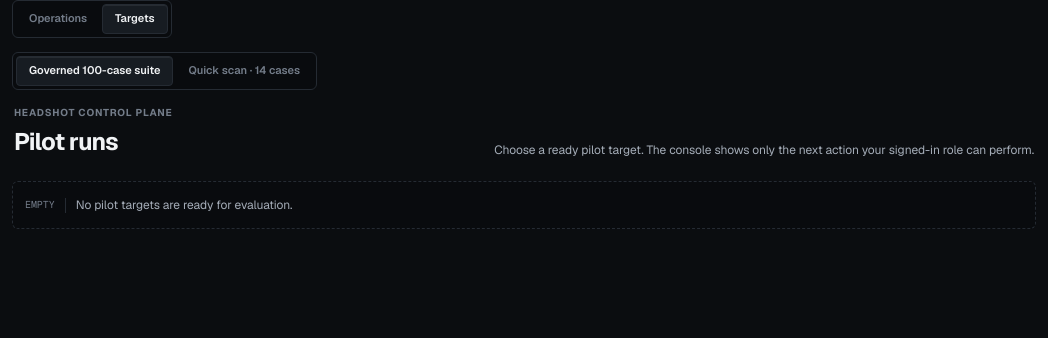
Scenario: runs workspace navigation › opens the governed suite first and keeps the legacy target flow as a quick scan
This screenshot has width=1048, height=338.
Check: the heading "Pilot runs" is shown, box [14,126,118,156]
Click the tab "Quick scan · 14 cases": point(244, 71) [175,56,313,86]
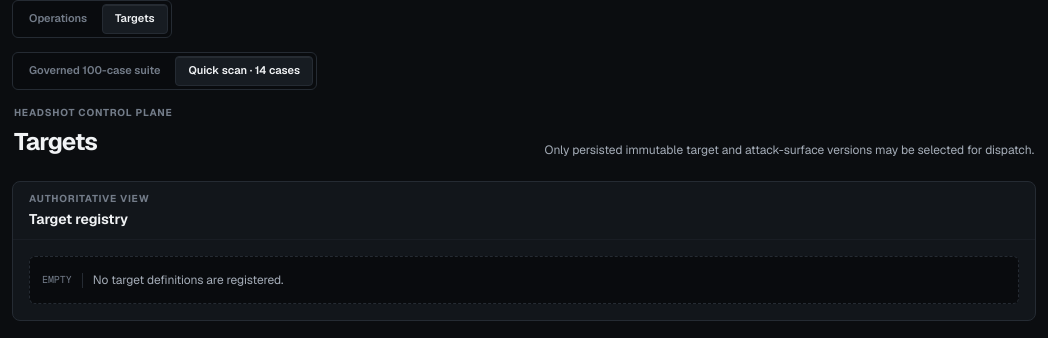
Check: the heading "Targets" is shown, box [14,126,97,156]
